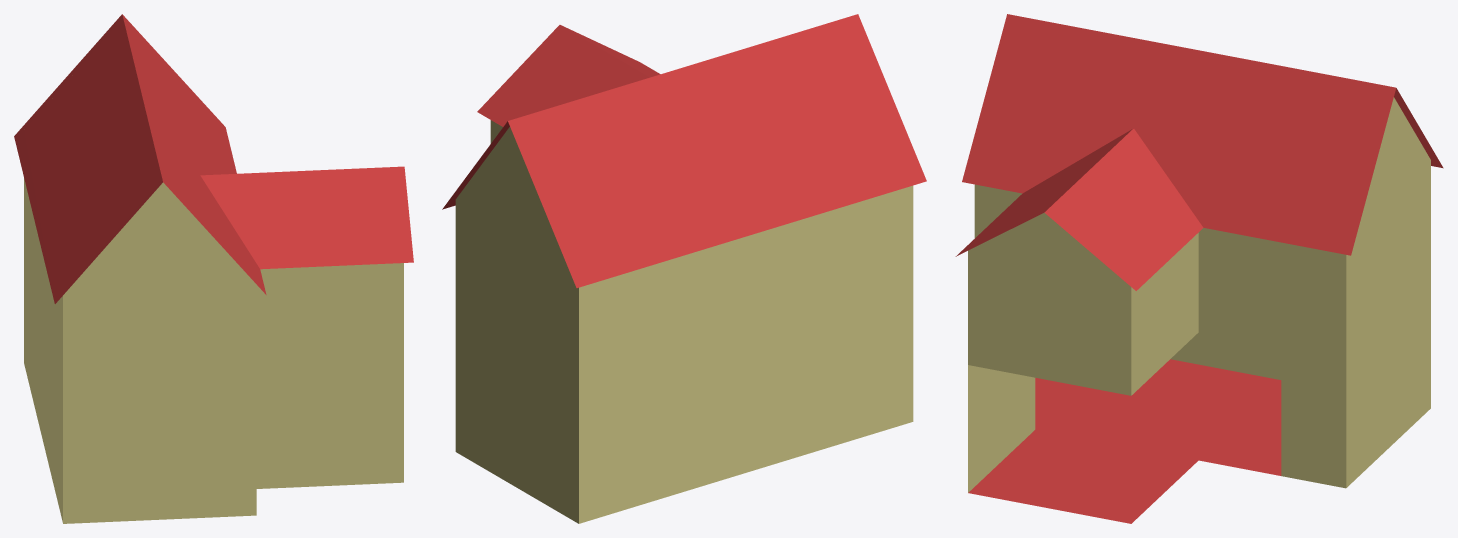
The picture shows the model from 3 angles, left to right: view 1: azimuth 30°, elevation 25°; view 2: azimuth 150°, elevation 25°; view 3: azimuth 270°, elevation 25°; orthographic projection. The views are drawn at different scales.
Size of the model in its own units: 23.92 by 25.12 by 20.62.
